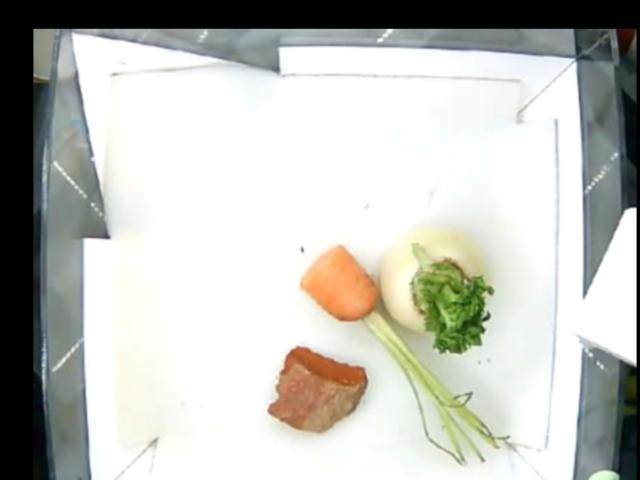Brisk: (267, 339, 365, 436)
Carrot: (298, 243, 388, 336)
Mooli: (382, 222, 487, 354)
